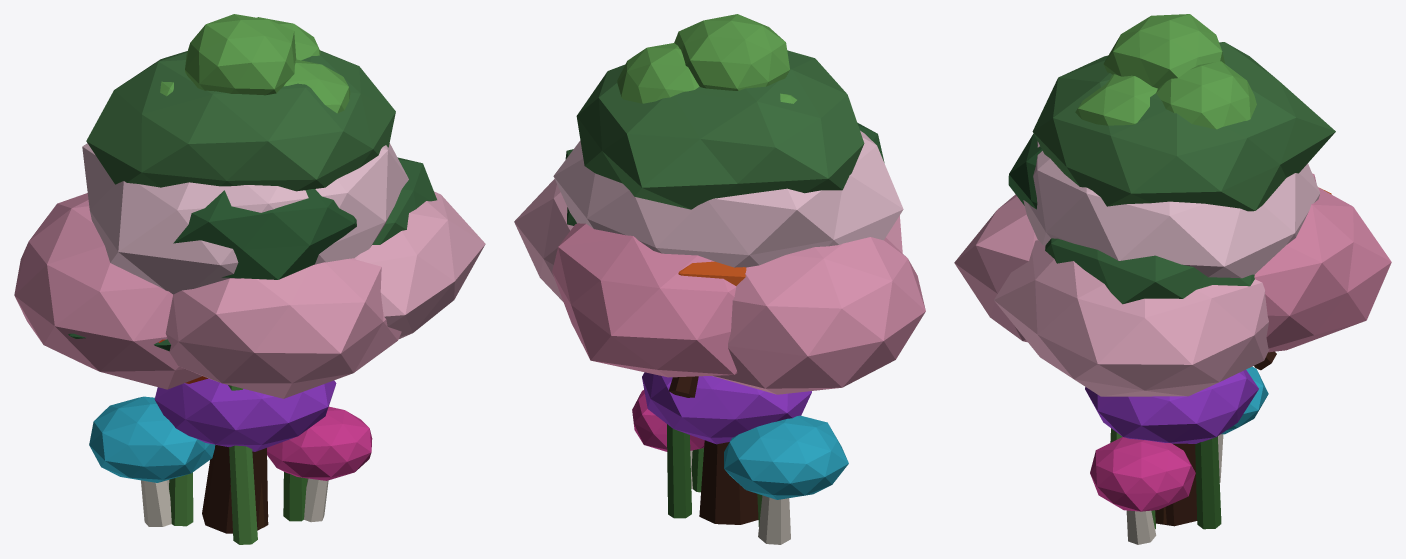
File: gensokyo-foliage-kit.glb
3 views of the same model, side by side, from view 1: azimuth 30°, elevation 25°; view 2: azimuth 150°, elevation 25°; view 3: azimuth 270°, elevation 25° (orthographic). The views are drawn at different scales.
Visible parts, largest first — view 1: SakuraTree, PineTree, MushroomCluster, BambooCluster; view 2: SakuraTree, PineTree, MushroomCluster, BambooCluster, AutumnTree; view 3: SakuraTree, PineTree, BambooCluster, MushroomCluster.
Boxes of the visible parts, bbox=[...] form: SakuraTree: bbox=[14, 143, 485, 533]; PineTree: bbox=[68, 50, 436, 351]; MushroomCluster: bbox=[89, 378, 372, 526]; BambooCluster: bbox=[160, 14, 350, 544]; SakuraTree: bbox=[514, 130, 925, 524]; PineTree: bbox=[565, 50, 884, 225]; MushroomCluster: bbox=[632, 372, 848, 544]; BambooCluster: bbox=[617, 14, 796, 526]; AutumnTree: bbox=[678, 261, 746, 285]; SakuraTree: bbox=[954, 141, 1391, 526]; PineTree: bbox=[1008, 42, 1335, 304]; BambooCluster: bbox=[1075, 14, 1256, 529]; MushroomCluster: bbox=[1085, 366, 1268, 544].
Size of the model in its own units: 12.84 by 15.31 by 12.29.
